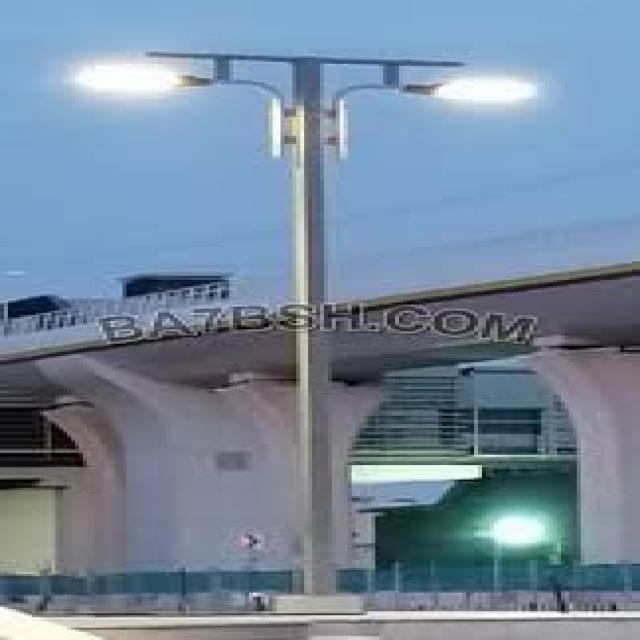Street Light: (63, 66, 537, 605)
